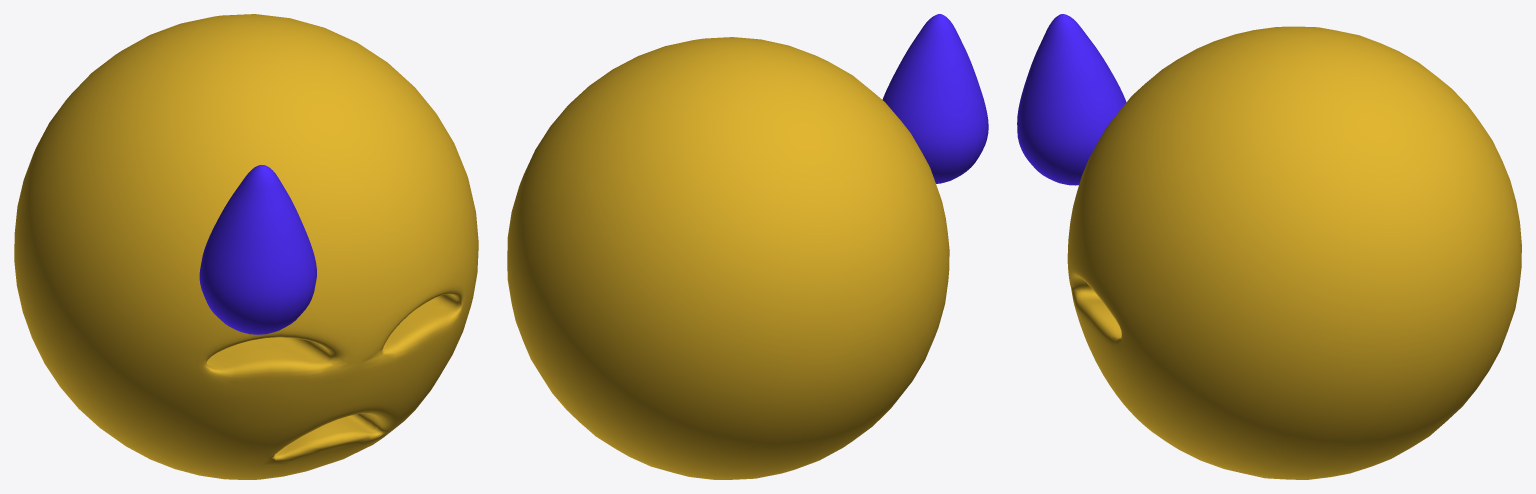
Rendered from dissapointed relieved.glb.
3 views of the same model, side by side, from view 1: azimuth 30°, elevation 25°; view 2: azimuth 150°, elevation 25°; view 3: azimuth 270°, elevation 25° (orthographic). The views are drawn at different scales.
Visible parts, largest first — view 1: Group64891, Group33367; view 2: Group64891, Group33367; view 3: Group64891, Group33367.
Part boxes in pixels (x1,y1,x2,y2): Group64891: (14, 14, 478, 479); Group33367: (199, 165, 316, 334); Group64891: (507, 37, 949, 479); Group33367: (882, 14, 988, 183); Group64891: (1067, 26, 1521, 479); Group33367: (1017, 14, 1126, 185).
Size of the model in its own units: 0.5988 by 0.6008 by 0.6666.
